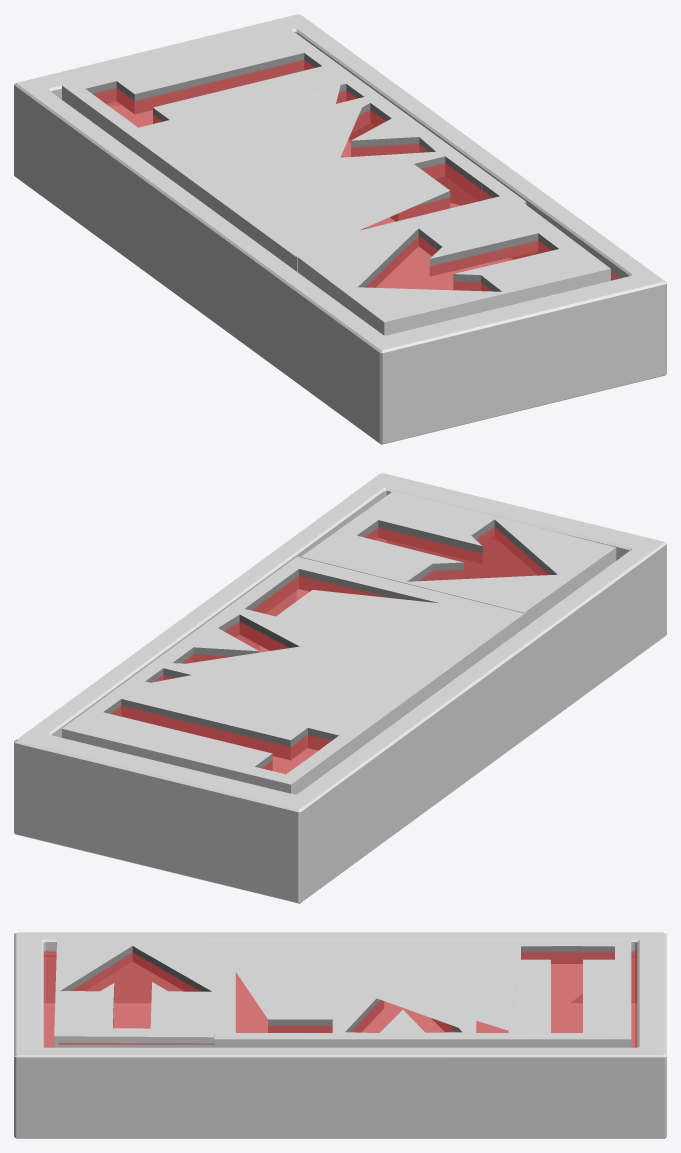
Rendered from ExitU.fbx.
The picture shows the model from 3 angles, top to bottom: view 1: azimuth 30°, elevation 25°; view 2: azimuth 150°, elevation 25°; view 3: azimuth 270°, elevation 25°; orthographic projection. The views are drawn at different scales.
Parts seen in each view (by area): view 1: polySurface65; view 2: polySurface65; view 3: polySurface65.
Part boxes in pixels (x1=…): polySurface65: x1=14, y1=14, x2=666, y2=444; polySurface65: x1=14, y1=473, x2=666, y2=903; polySurface65: x1=14, y1=932, x2=666, y2=1138.
Bounding box in the file's own units: 4.15 × 1.37 × 9.2.
